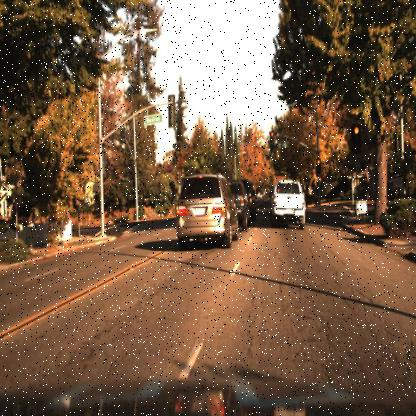car: (176, 174, 236, 252), (267, 177, 307, 232), (224, 182, 248, 230)
trafficLight-Red: (268, 125, 277, 150), (314, 155, 324, 174)
